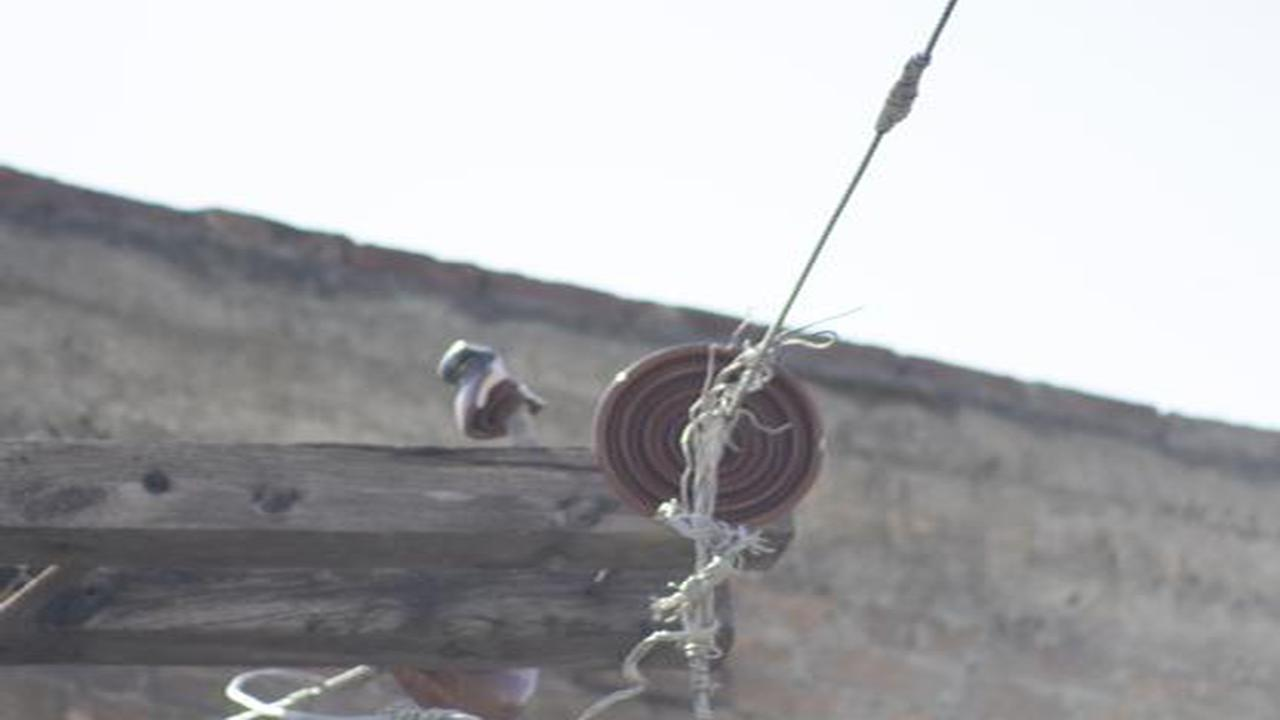defect_pin: (432, 327, 552, 449)
insulator_disc: (582, 330, 834, 541)
